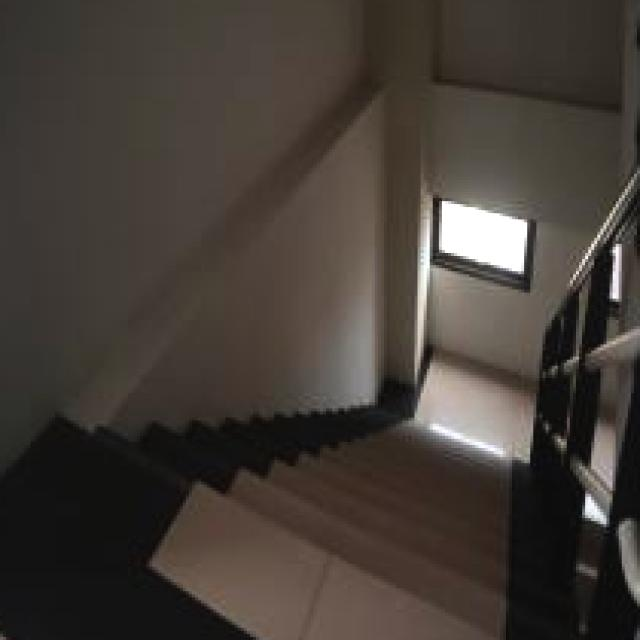downstair: (193, 430, 507, 640)
